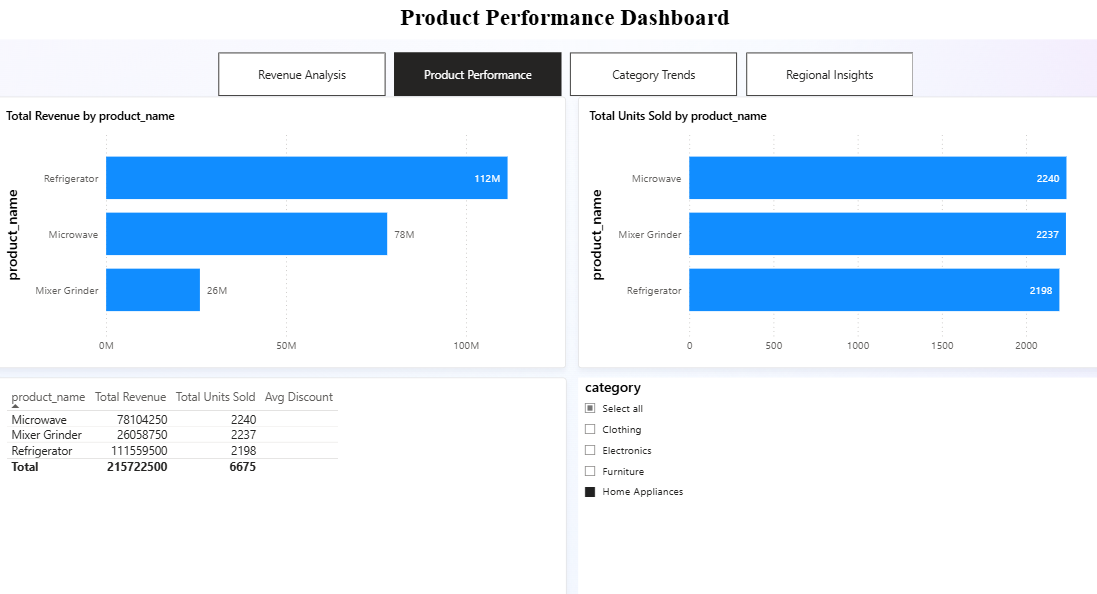

The page's visual inventory and layout, read from the dashboard file:
{"tool":"powerbi","page":{"name":"Product Performance","canvas":[1280,720],"ordinal":1},"visuals":[{"type":"clusteredBarChart","fields":{"Category":["cleaned_retail_data.product_name"],"Y":["cleaned_retail_data.Total Revenue"]},"box":[0,112.1,655.9,311.8],"z":0},{"type":"clusteredBarChart","fields":{"Category":["cleaned_retail_data.product_name"],"Y":["cleaned_retail_data.Total Units Sold"]},"box":[669.8,112.1,609.8,311.8],"z":1000},{"type":"tableEx","fields":{"Values":["cleaned_retail_data.product_name","cleaned_retail_data.Total Revenue","cleaned_retail_data.Total Units Sold","cleaned_retail_data.Avg Discount"]},"box":[0,435,656.7,285],"z":2000},{"type":"slicer","fields":{"Values":["cleaned_retail_data.category"]},"box":[669.8,434.7,609.8,285.7],"z":3000},{"type":"pageNavigator","box":[256.5,61.4,798.8,50.7],"z":4000},{"type":"textbox","box":[0,0,1279.6,46.1],"z":4001}]}

Visuals, with their boxes on the page's 1280x720 design canvas (x1, y1, x2, y2). These are canvas units, not pixel positions in the 1097x594 screenshot, which may show the page scaled, cropped or inside an application window:
clusteredBarChart - cleaned_retail_data.product_name x cleaned_retail_data.Total Revenue: <box>0,112,656,424</box>
clusteredBarChart - cleaned_retail_data.product_name x cleaned_retail_data.Total Units Sold: <box>670,112,1280,424</box>
tableEx - cleaned_retail_data.product_name x cleaned_retail_data.Total Revenue: <box>0,435,657,720</box>
slicer - cleaned_retail_data.category: <box>670,435,1280,720</box>
pageNavigator: <box>256,61,1055,112</box>
textbox: <box>0,0,1280,46</box>
